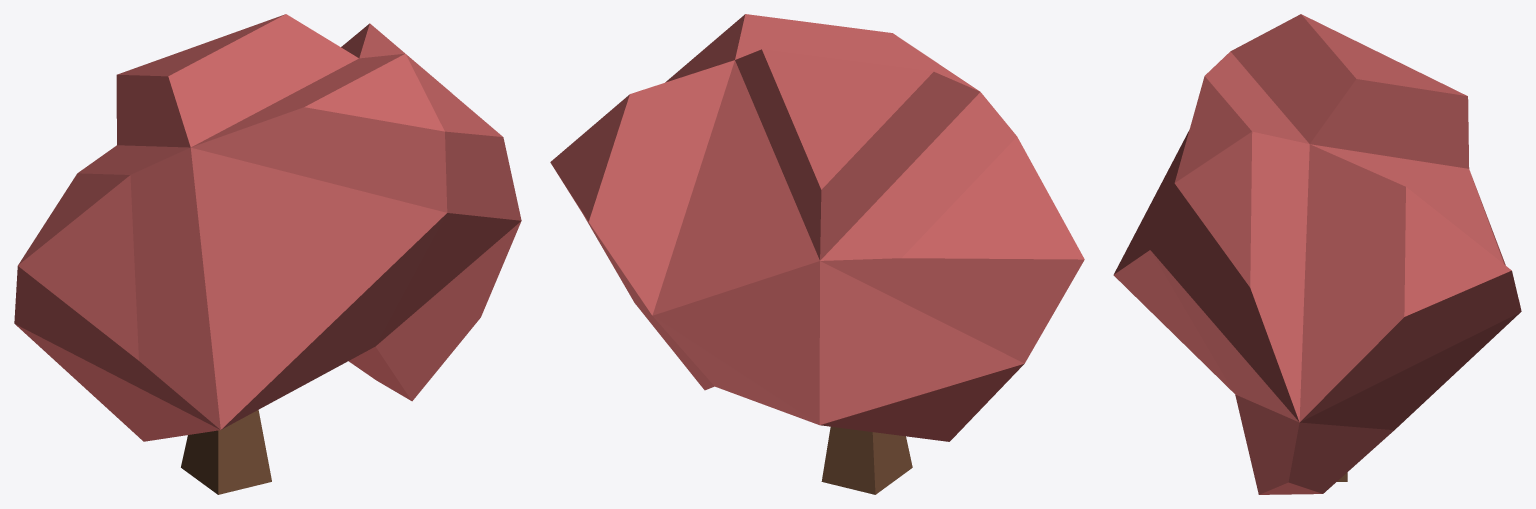
The model's file is BushAutumn4.fbx.
3 views of the same model, side by side, from view 1: azimuth 30°, elevation 25°; view 2: azimuth 150°, elevation 25°; view 3: azimuth 270°, elevation 25° (orthographic).
Parts seen in each view (by area): view 1: BushAutumn4; view 2: BushAutumn4; view 3: BushAutumn4.
Part boxes in pixels (bbox=[...]): BushAutumn4: bbox=[14, 14, 521, 494]; BushAutumn4: bbox=[550, 14, 1084, 494]; BushAutumn4: bbox=[1113, 14, 1521, 494].
Size of the model in its own units: 0.4664 by 0.3748 by 0.3221.
